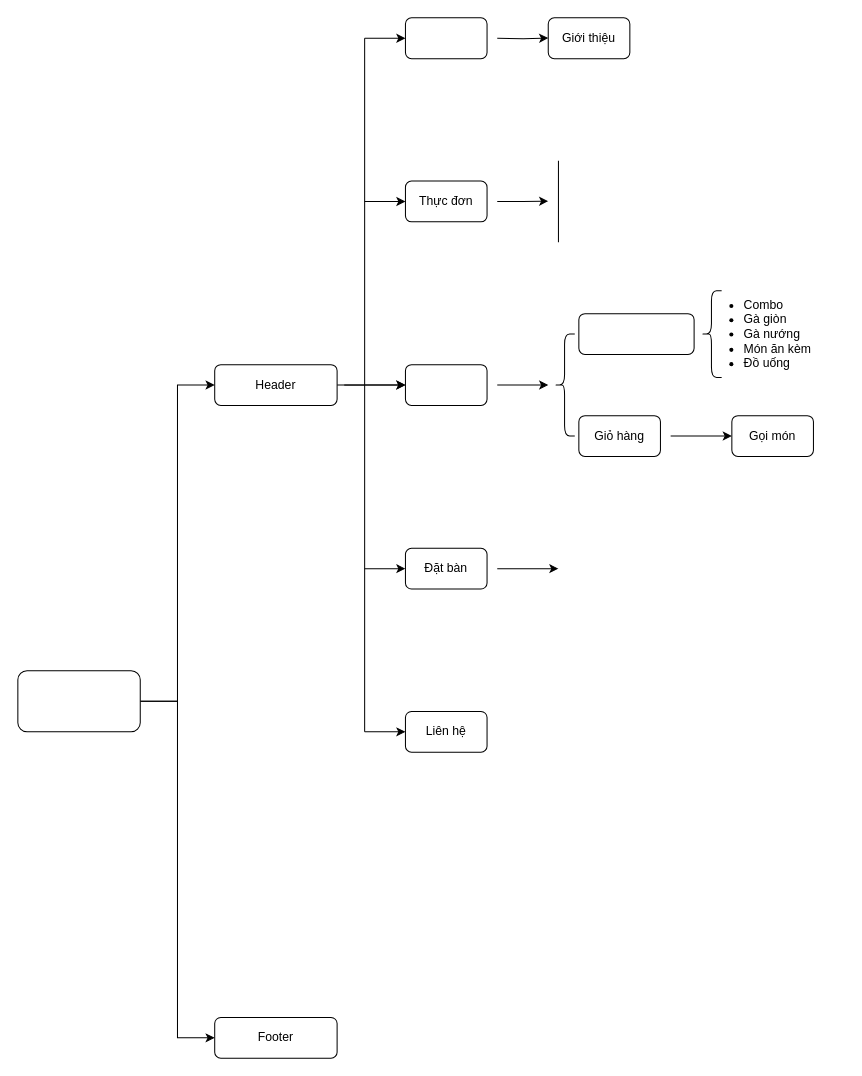
Some shapes in this 862 by 1076 pixel diagram are drawn without their labels. Each missing label, with the box of its shape:
Danh sách món ăn: (578, 313, 694, 354)
Do Do Chicken: (17, 670, 140, 732)
Trang chủ: (404, 17, 487, 59)
Đặt món: (404, 364, 487, 405)
